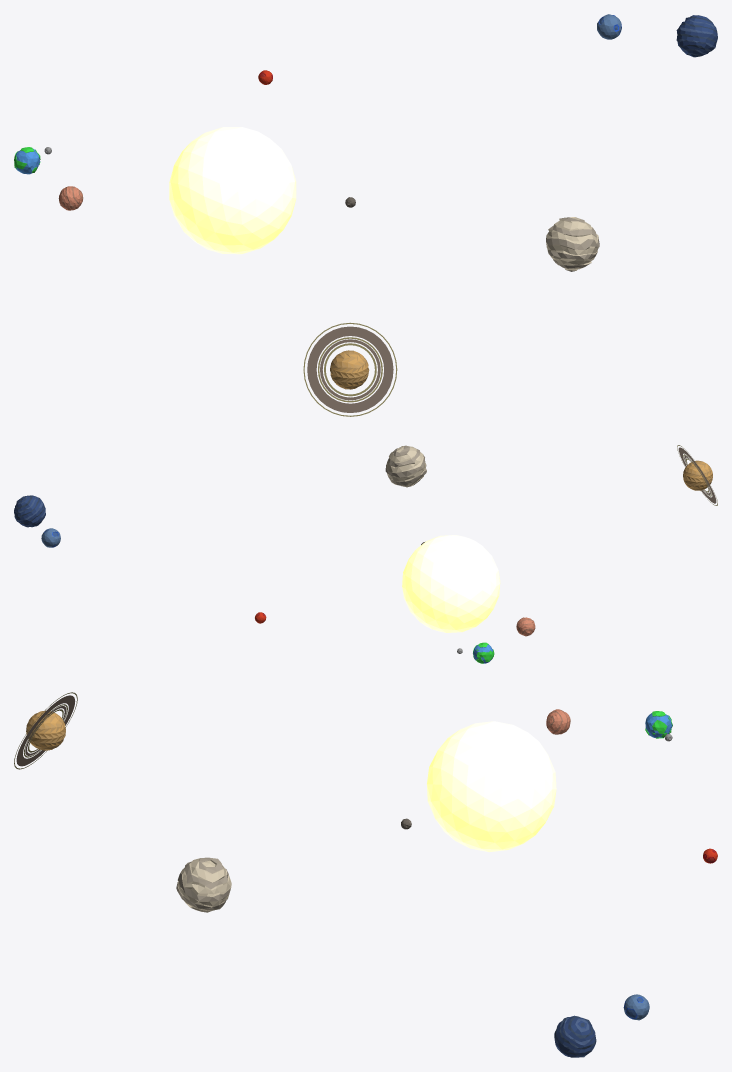
The model's file is space.glb.
3 views of the same model, one above another, from view 1: azimuth 30°, elevation 25°; view 2: azimuth 150°, elevation 25°; view 3: azimuth 270°, elevation 25° (orthographic). The views are drawn at different scales.
Visible parts, largest first — view 1: Sun, SaturnsRings, Jupiter, Neptune, Saturn; view 2: Sun, Jupiter, Neptune, Saturn, SaturnsRings, Earth; view 3: Sun, Jupiter, Neptune, SaturnsRings, Saturn, Earth.
Part boxes in pixels (bbox=[...]): Sun: bbox=[169, 127, 296, 254]; SaturnsRings: bbox=[303, 322, 397, 416]; Jupiter: bbox=[546, 217, 599, 271]; Neptune: bbox=[676, 15, 717, 57]; Saturn: bbox=[330, 350, 369, 389]; Sun: bbox=[402, 535, 500, 632]; Jupiter: bbox=[385, 445, 426, 487]; Neptune: bbox=[14, 495, 45, 527]; Saturn: bbox=[683, 460, 712, 490]; SaturnsRings: bbox=[677, 445, 717, 505]; Earth: bbox=[473, 642, 494, 663]; Sun: bbox=[426, 721, 556, 852]; Jupiter: bbox=[176, 857, 231, 912]; Neptune: bbox=[554, 1015, 596, 1057]; SaturnsRings: bbox=[14, 692, 77, 769]; Saturn: bbox=[26, 710, 65, 750]; Earth: bbox=[645, 711, 672, 738].
Size of the model in its own units: 56.46 by 9.35 by 50.83.
